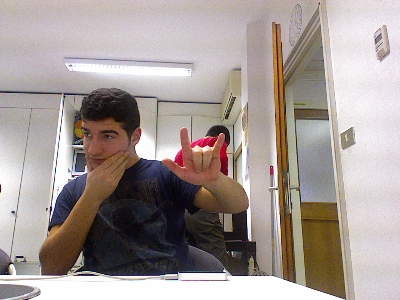我爱你: (159, 125, 226, 185)
